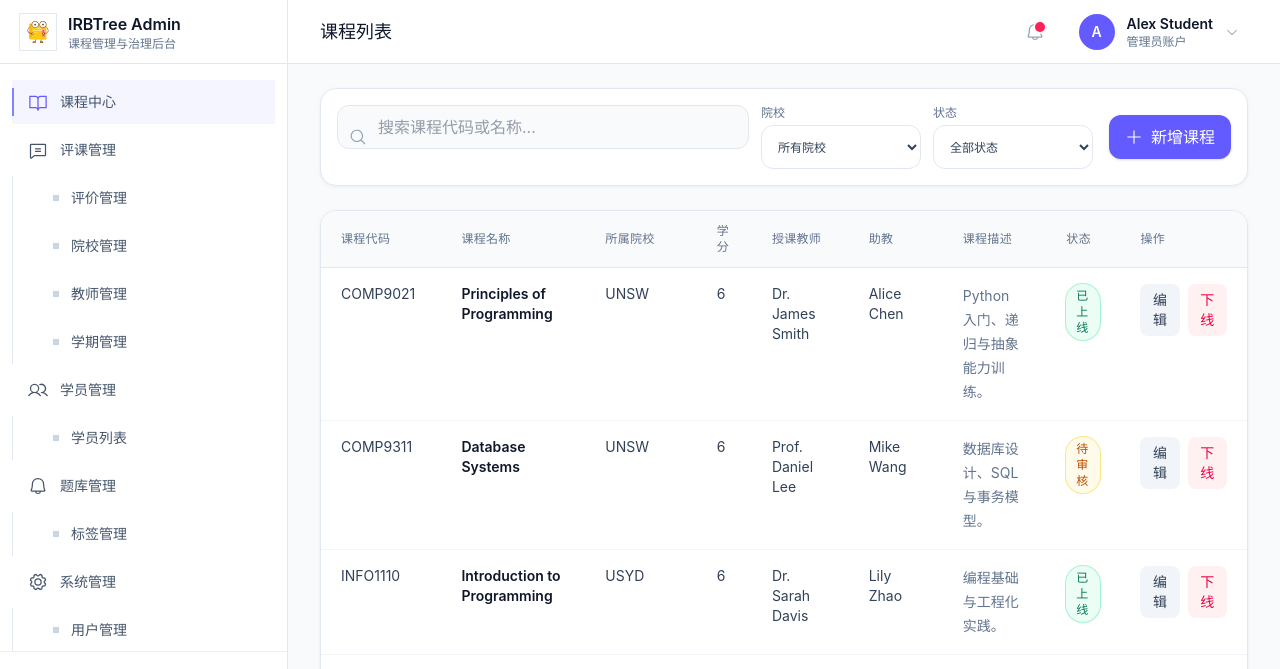
it: Admin domain navigation › uses the correct link target and navigates to the default child when clicking 评课管理
Click the link "评课管理": [72, 150] box [28, 140, 116, 160]
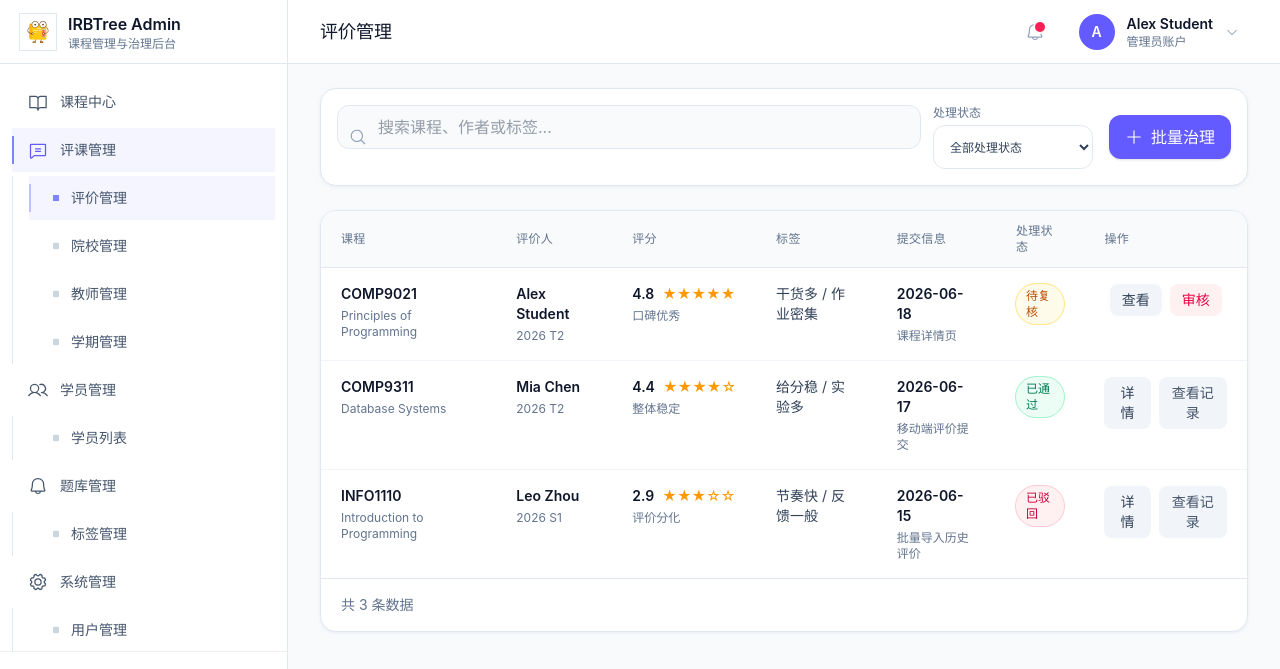
expect the heading "评价管理" is shown: met, box [320, 18, 392, 46]
